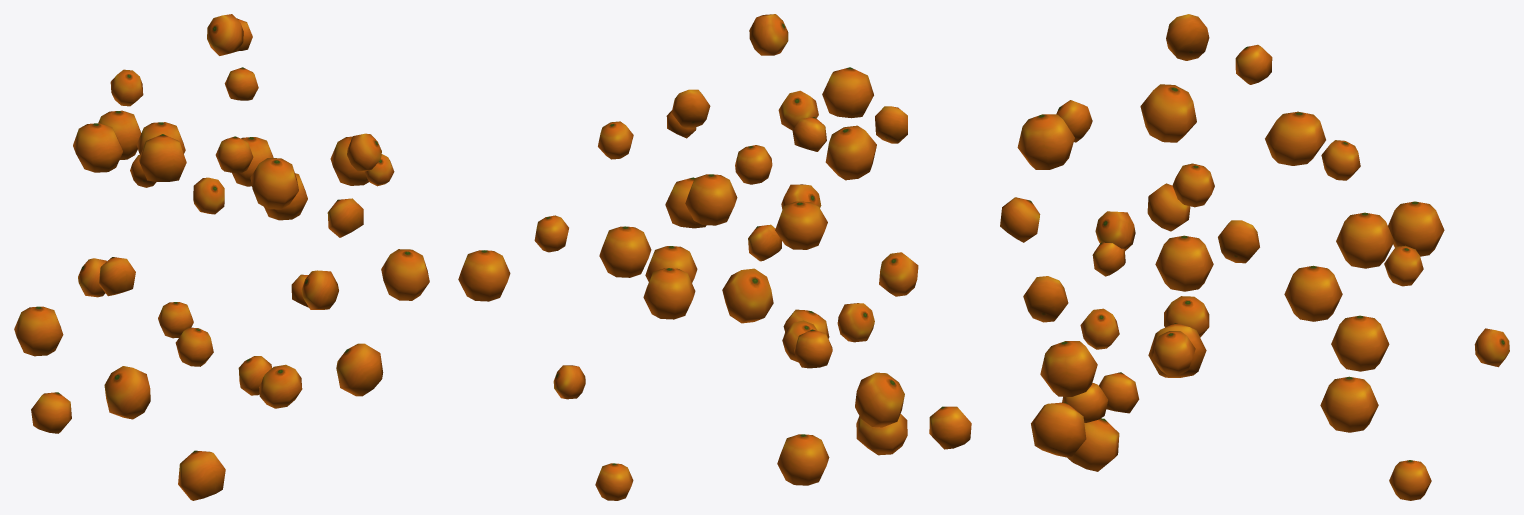
The model's file is Orange.FBX.
3 views of the same model, side by side, from view 1: azimuth 30°, elevation 25°; view 2: azimuth 150°, elevation 25°; view 3: azimuth 270°, elevation 25° (orthographic). The views are drawn at different scales.
Parts seen in each view (by area): view 1: Orange; view 2: Orange; view 3: Orange.
Part boxes in pixels (left/top/right/bottom): Orange: left=14, top=14, right=429, bottom=500; Orange: left=458, top=14, right=971, bottom=500; Orange: left=1000, top=14, right=1509, bottom=500.
Size of the model in its own units: 17.05 by 17.14 by 16.15.
1 material, 1 textured.
